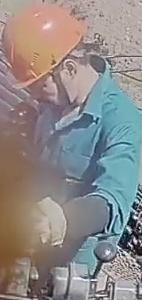gloves: (20, 195, 72, 253)
helmet: (1, 2, 86, 89)
vest: (30, 82, 142, 263)
